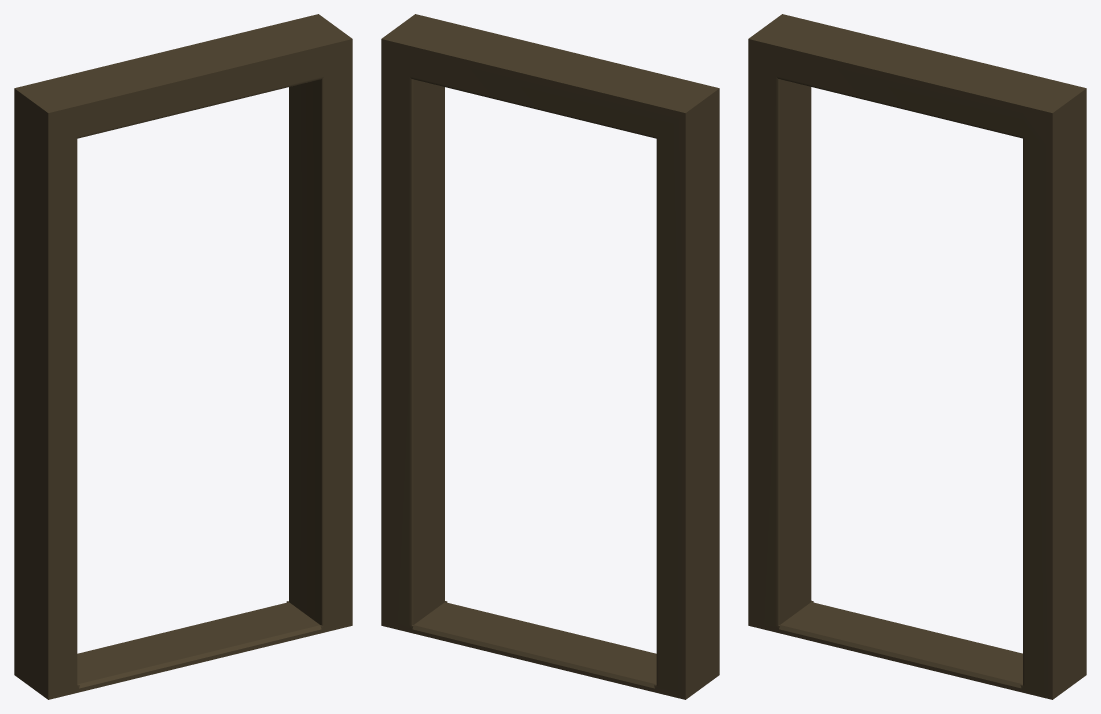
File: doorFrameInside.fbx
3 views of the same model, side by side, from view 1: azimuth 30°, elevation 25°; view 2: azimuth 150°, elevation 25°; view 3: azimuth 330°, elevation 25° (orthographic).
Parts seen in each view (by area): view 1: DoorFrame; view 2: DoorFrame; view 3: DoorFrame.
Boxes of the visible parts, left/top/right/bottom form: DoorFrame: left=14, top=14, right=352, bottom=699; DoorFrame: left=381, top=14, right=719, bottom=699; DoorFrame: left=748, top=14, right=1086, bottom=699.
Size of the model in its own units: 3.8 by 7 by 0.7369.
